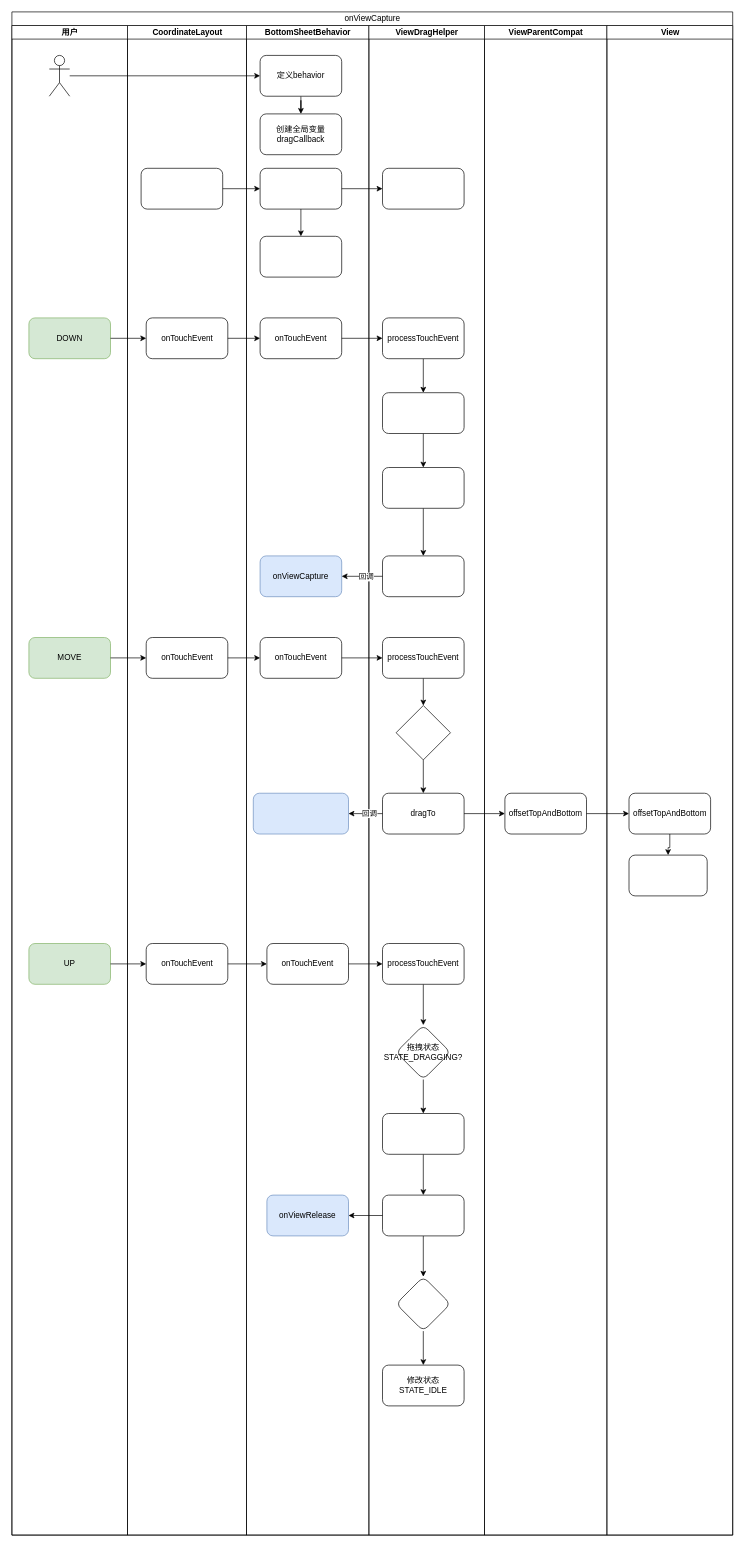
This 745x1547 diagram has some shape labels left out. The centre of each missing label's shape, as x and y in pixels:
"Actor" goes at point (59, 75).
"captureChildView" goes at point (423, 487).
"mCapturedView赋值 拖拽状态 START_DRAGGING" goes at point (423, 576).
"onLayout()" goes at point (181, 188).
"onLayoutChild()" goes at point (300, 188).
"onViewPositionChanged" goes at point (300, 813).
"releaseViewForPointerUp" goes at point (423, 1133).
"tryCaptureViewForDrag" goes at point (423, 413).
"修改View的 mTop和mBottom" goes at point (667, 875).
"创建viewDragHelper 传入dragCallback" goes at point (423, 188).
"拖拽状态 STATE_DRAGGING？" goes at point (423, 1303).
"拖拽状态STATE_DRAGGING?" goes at point (423, 732).
"计算每种状态的offset" goes at point (300, 256).
"计算速度 dispatchViewRelease" goes at point (423, 1215).
